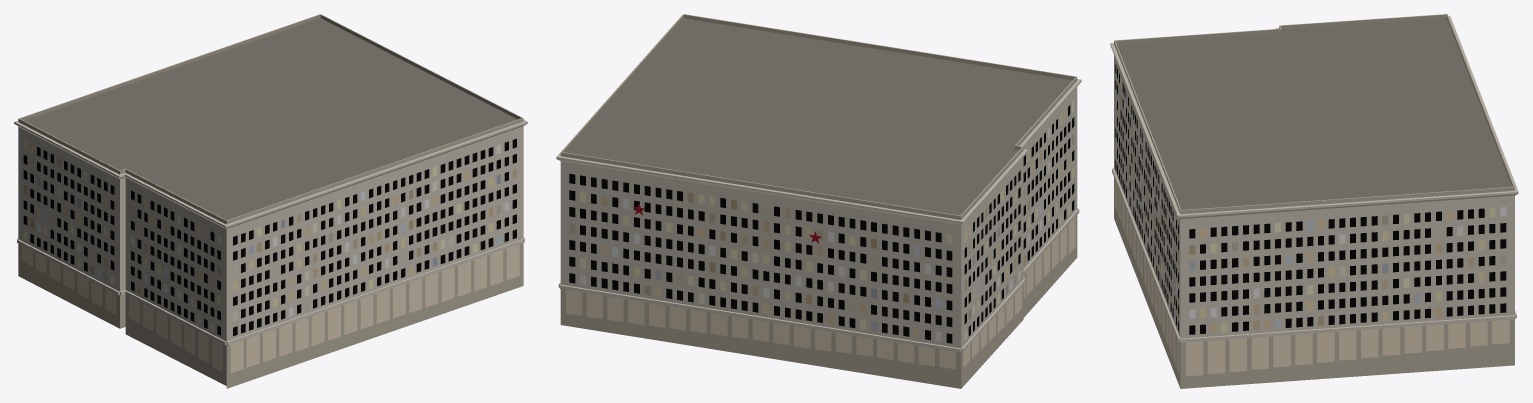
File: macys_lod1.glb
3 views of the same model, side by side, from view 1: azimuth 30°, elevation 25°; view 2: azimuth 150°, elevation 25°; view 3: azimuth 270°, elevation 25° (orthographic). The views are drawn at different scales.
Visible parts, largest first — view 1: L1_stone, L1_roof, L1_win, L1_shop; view 2: L1_stone, L1_roof, L1_win, L1_shop; view 3: L1_roof, L1_stone, L1_win, L1_shop.
Boxes of the visible parts, <box> form: L1_stone: <box>14,14,527,388</box>; L1_roof: <box>24,18,517,220</box>; L1_win: <box>23,138,516,336</box>; L1_shop: <box>21,244,519,373</box>; L1_stone: <box>556,14,1081,388</box>; L1_roof: <box>565,18,1072,215</box>; L1_win: <box>569,100,1074,343</box>; L1_shop: <box>566,217,1075,369</box>; L1_roof: <box>1117,18,1511,209</box>; L1_stone: <box>1110,14,1518,388</box>; L1_win: <box>1115,64,1506,334</box>; L1_shop: <box>1114,179,1509,376</box>.
Bounding box in the file's own units: 116 × 48.31 × 100.
